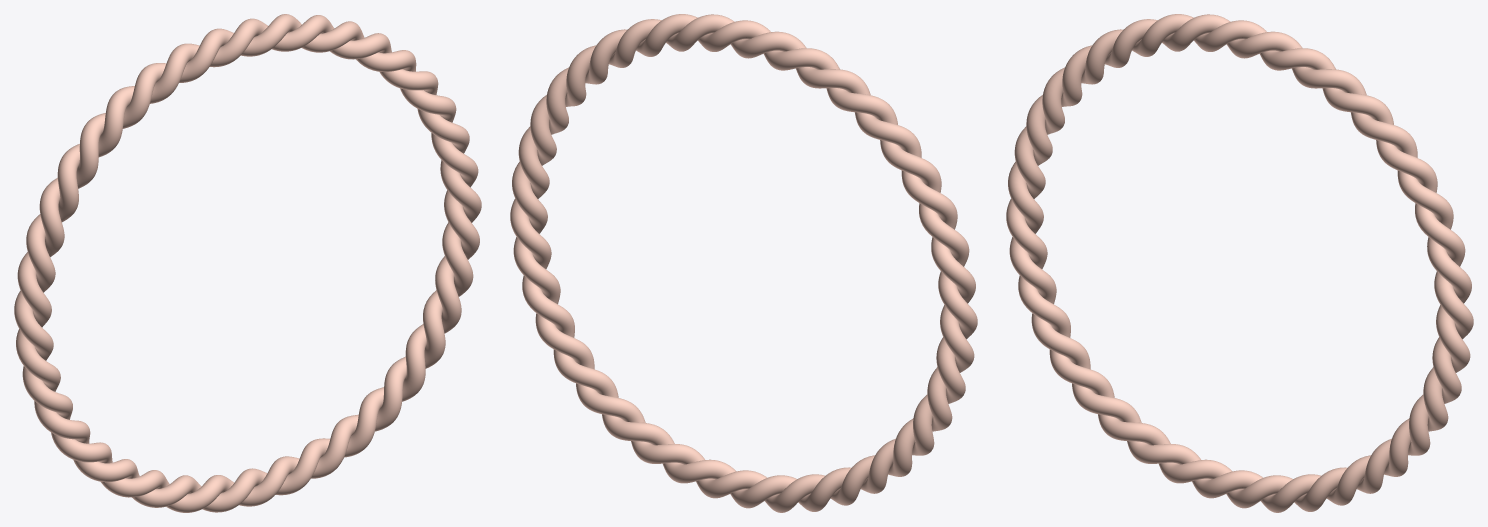
File: ring4.glb
The picture shows the model from 3 angles, left to right: view 1: azimuth 30°, elevation 25°; view 2: azimuth 150°, elevation 25°; view 3: azimuth 330°, elevation 25°; orthographic projection.
Visible parts, largest first — view 1: 기본값(589DB87A-7D3A-477A-BBF3-8C636C0E5AE5), 기본값(A1553E4F-E0EC-4523-8DAF-6969D30C69A1); view 2: 기본값(589DB87A-7D3A-477A-BBF3-8C636C0E5AE5), 기본값(A1553E4F-E0EC-4523-8DAF-6969D30C69A1); view 3: 기본값(589DB87A-7D3A-477A-BBF3-8C636C0E5AE5), 기본값(A1553E4F-E0EC-4523-8DAF-6969D30C69A1).
Boxes of the visible parts, left/top/right/bottom form: 기본값(589DB87A-7D3A-477A-BBF3-8C636C0E5AE5): left=14, top=15, right=481, bottom=512; 기본값(A1553E4F-E0EC-4523-8DAF-6969D30C69A1): left=16, top=14, right=479, bottom=512; 기본값(589DB87A-7D3A-477A-BBF3-8C636C0E5AE5): left=510, top=14, right=977, bottom=511; 기본값(A1553E4F-E0EC-4523-8DAF-6969D30C69A1): left=512, top=14, right=975, bottom=512; 기본값(589DB87A-7D3A-477A-BBF3-8C636C0E5AE5): left=1006, top=14, right=1473, bottom=511; 기본값(A1553E4F-E0EC-4523-8DAF-6969D30C69A1): left=1008, top=14, right=1471, bottom=512.
Bounding box in the file's own units: 0.0198 × 0.0198 × 0.0014.
